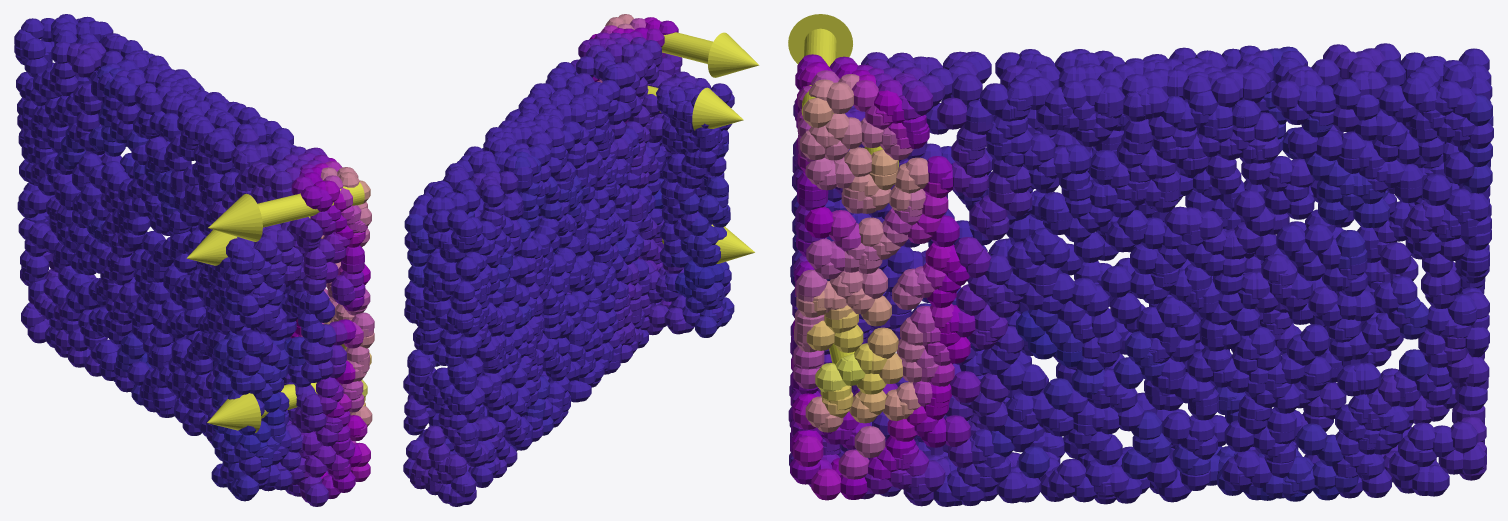
The model's file is pred_heatmap_1.glb.
The picture shows the model from 3 angles, left to right: view 1: azimuth 30°, elevation 25°; view 2: azimuth 150°, elevation 25°; view 3: azimuth 270°, elevation 25°; orthographic projection. The views are drawn at different scales.
Visible parts, largest first — view 1: world; view 2: world; view 3: world.
Part boxes in pixels (x1=…): world: x1=14, y1=14, x2=374, y2=506; world: x1=403, y1=14, x2=759, y2=506; world: x1=788, y1=14, x2=1493, y2=506.
Size of the model in its own units: 0.4653 by 0.8861 by 1.3.
